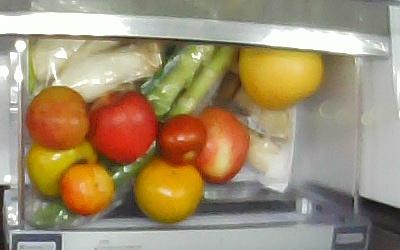apple: (84, 91, 157, 162), (190, 108, 252, 181)
grapefruit: (238, 45, 324, 111)
persimmon: (133, 157, 204, 224), (25, 137, 98, 198)
prune: (27, 87, 89, 151), (61, 163, 114, 214), (159, 114, 204, 169)
